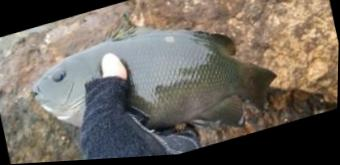fish: (32, 13, 278, 132)
